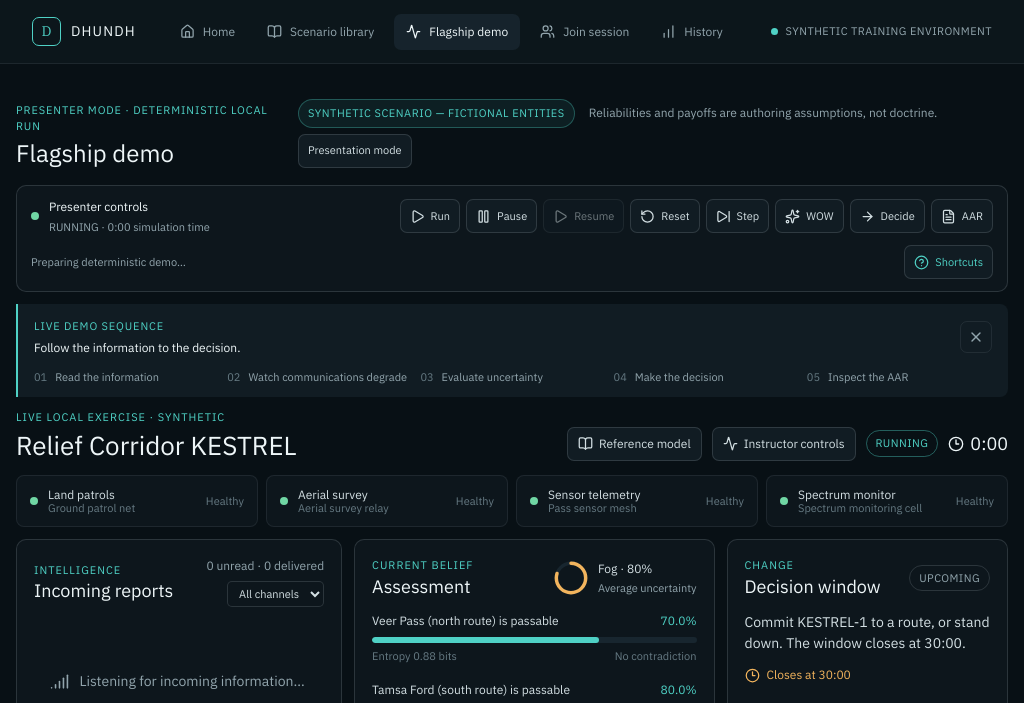
live presentation › subscribes to real client snapshots, simplifies chrome and restores contextual focus without resetting
The width and height of the screenshot is (1024, 703).
Click the button with test id "enter-presentation".
click(355, 150)  # box 298,134 -> 412,168
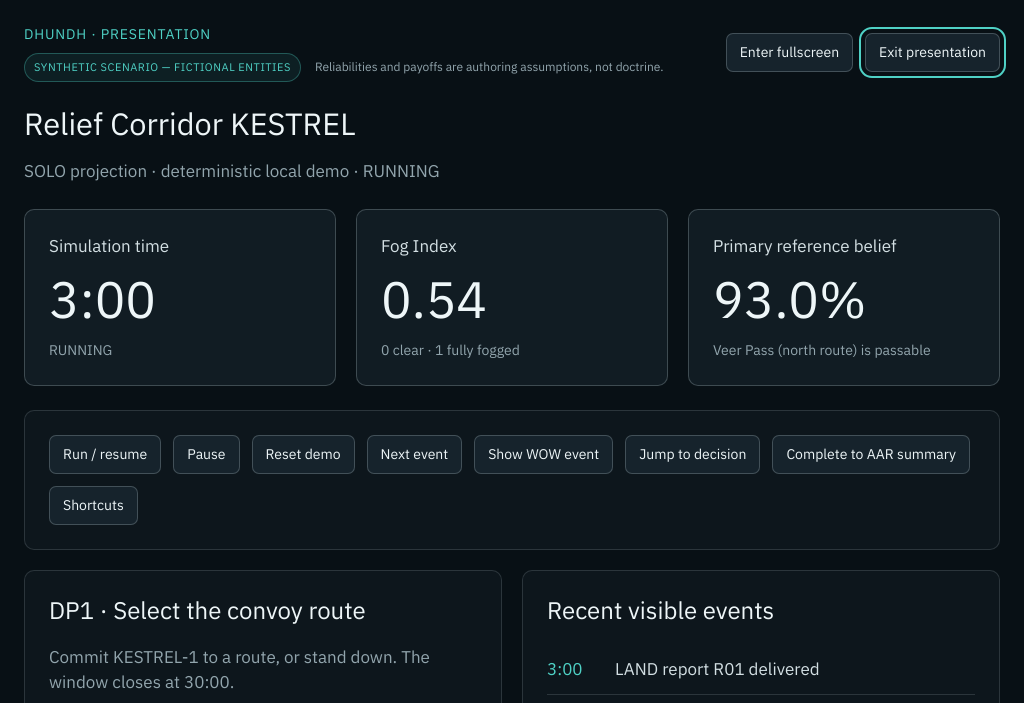
expect the text with test id "presentation-clock" reads "3:00": met, box 49,266 -> 156,332
expect the element named "Visible event timeline" shows "R01 delivered": met, box 615,658 -> 820,680
Click the button "Exit presentation".
click(933, 53)  # box 865,33 -> 1000,72
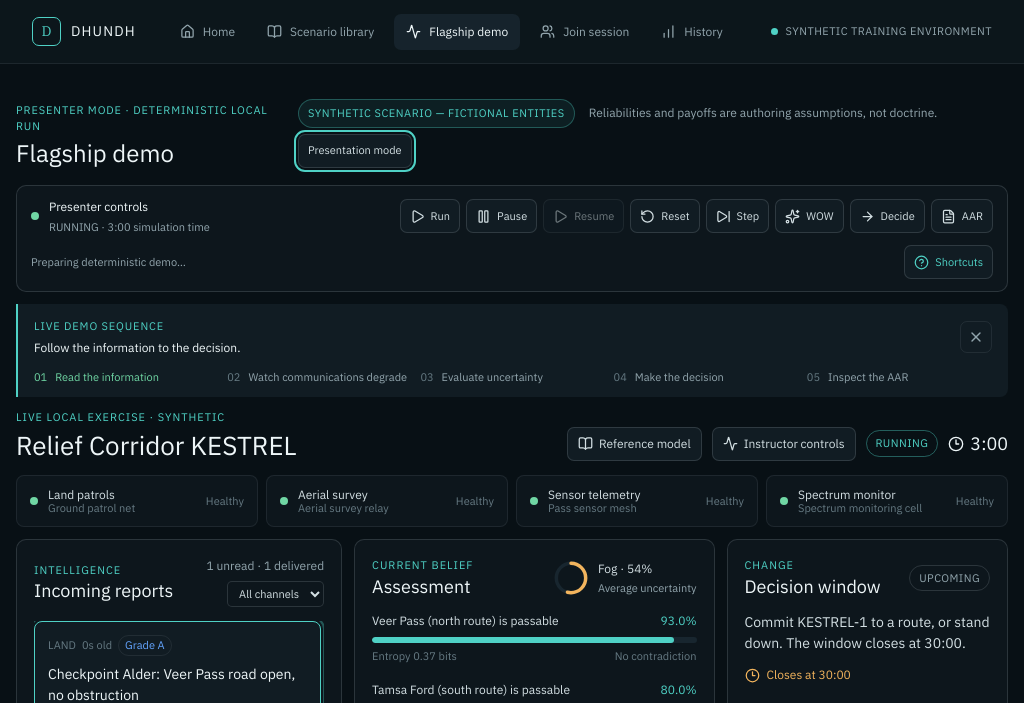
expect the element with test id "session-clock" reads "3:00": met, box 970,432 -> 1008,455
expect the navigation bar named "Primary navigation" is shown: met, box 168,14 -> 738,50
